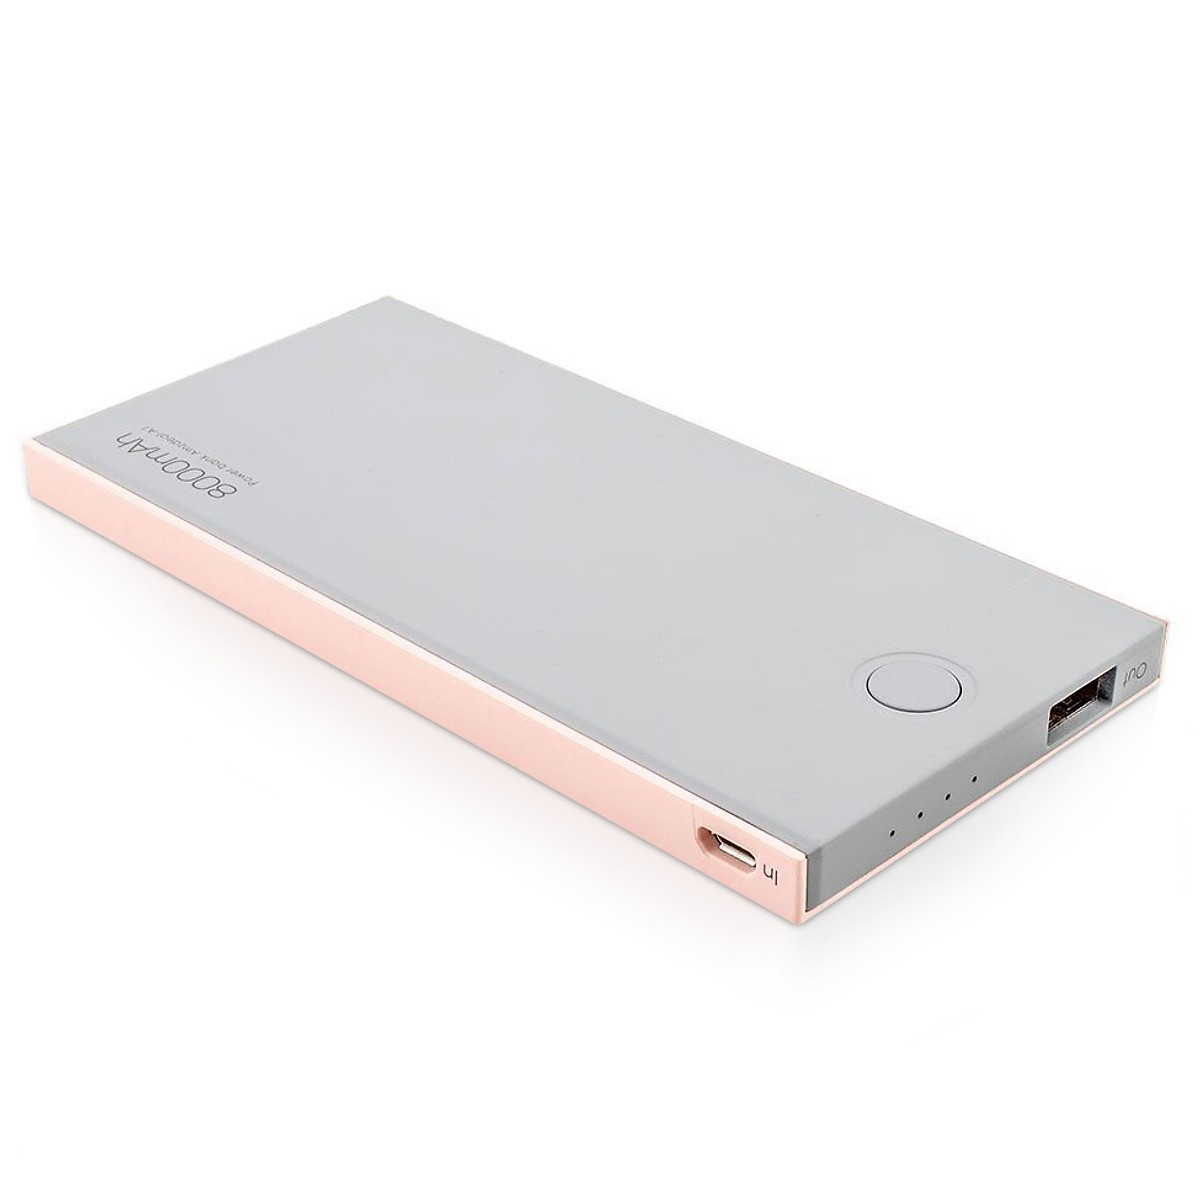Aukey: (53, 377, 380, 589)
